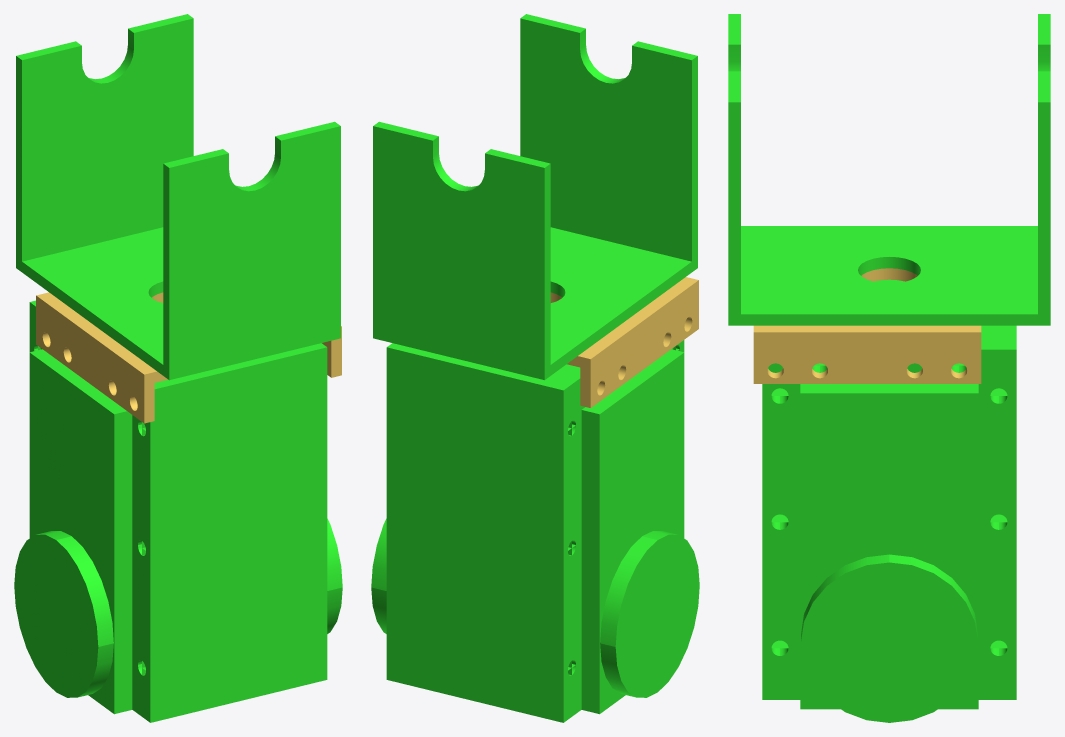
3 renders of one model, left to right at view 1: azimuth 30°, elevation 25°; view 2: azimuth 150°, elevation 25°; view 3: azimuth 270°, elevation 25°, orthographic. The views are drawn at different scales.
Visible parts, largest first — view 1: FR05-H101, group_3, group_2, group_1, FR05-S101; view 2: FR05-H101, group_3, group_2, group_1, FR05-S101; view 3: FR05-H101 (×2), group_2, group_3, group_1, FR05-S101 (×2).
Part boxes in pixels (x1,y1,x2,y2): FR05-H101: [16, 14, 340, 380]; group_3: [29, 300, 327, 722]; group_2: [29, 349, 132, 714]; group_1: [14, 518, 342, 697]; FR05-S101: [36, 292, 341, 423]; FR05-H101: [373, 14, 697, 380]; group_3: [386, 340, 684, 722]; group_2: [581, 349, 684, 714]; group_1: [371, 518, 699, 697]; FR05-S101: [567, 277, 698, 407]; FR05-H101 (×2): [728, 14, 1050, 325]; group_2: [800, 384, 978, 709]; group_3: [762, 279, 1016, 699]; group_1: [801, 554, 977, 722]; FR05-S101 (×2): [753, 268, 981, 383].
Bounding box in the file's own units: 1.85 × 2.01 × 4.14.
